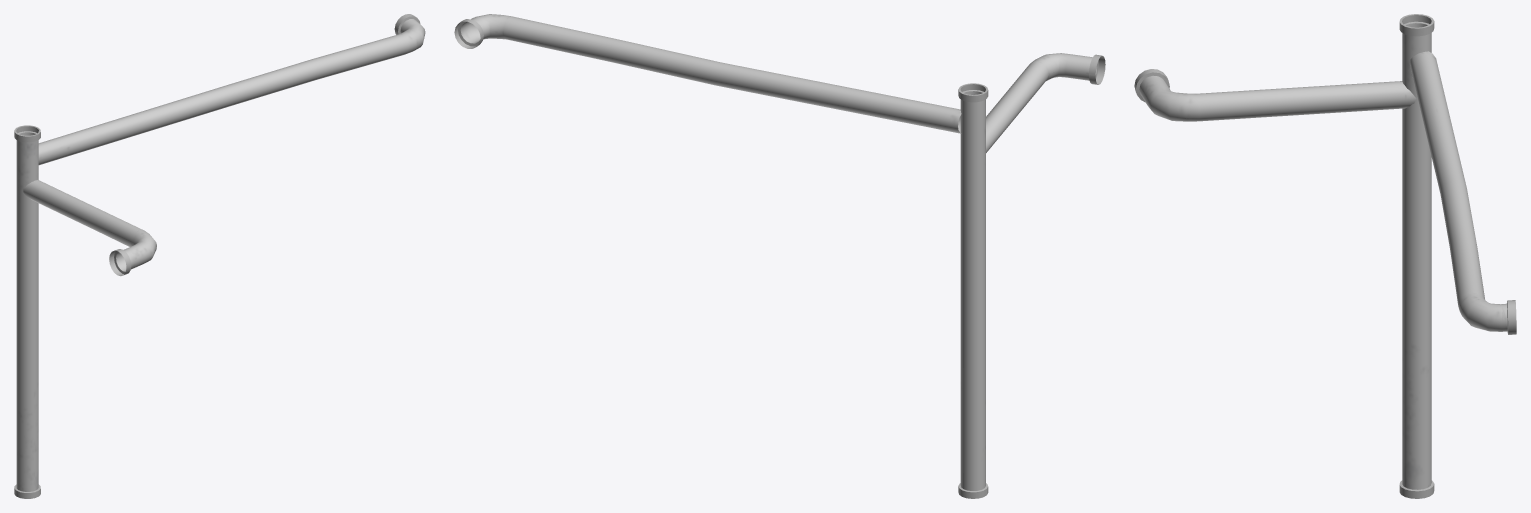
File: jobRoomPipes00.fbx
3 renders of one model, left to right at view 1: azimuth 30°, elevation 25°; view 2: azimuth 150°, elevation 25°; view 3: azimuth 270°, elevation 25°, orthographic. The views are drawn at different scales.
Visible parts, largest first — view 1: JobRoom_Pipes; view 2: JobRoom_Pipes; view 3: JobRoom_Pipes.
Part boxes in pixels (bbox=[...]): JobRoom_Pipes: bbox=[14, 14, 425, 498]; JobRoom_Pipes: bbox=[454, 14, 1105, 498]; JobRoom_Pipes: bbox=[1134, 14, 1516, 498].
Size of the model in its own units: 12.84 by 10.05 by 7.41.
